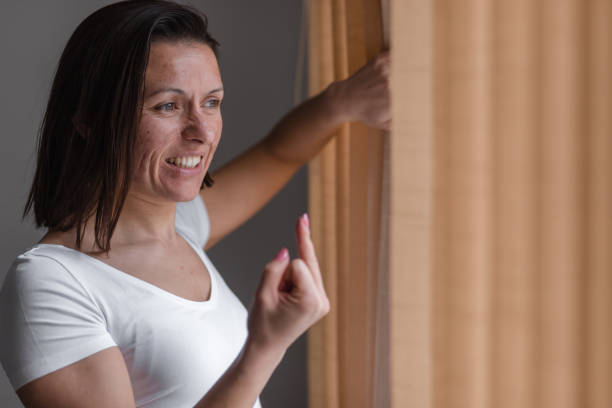insulting_gesture: (247, 212, 330, 355)
